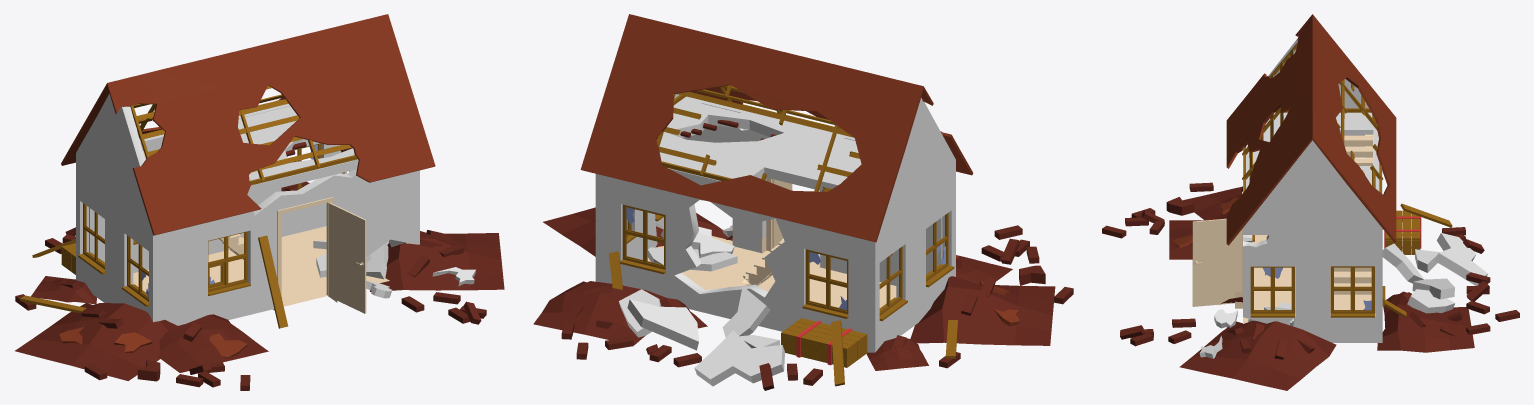
Rendered from house-broken.fbx.
3 views of the same model, side by side, from view 1: azimuth 30°, elevation 25°; view 2: azimuth 150°, elevation 25°; view 3: azimuth 270°, elevation 25° (orthographic). The views are drawn at different scales.
Parts seen in each view (by area): view 1: Roof, House, Debris, Floor.001, Door, Floor, Roof supports, Window, DoorFrame, Window.004, Window.005; view 2: Roof, House, Debris, Floor, Roof supports, Floor.001, Wood Stack, Window.007, Window.006, Window.004, Window.005, Stairs; view 3: Debris, Roof, House, Door, Floor, Floor.001, Roof supports, Stairs, Window.002, Window.003, Wood Stack.
Part boxes in pixels (x1,y1,x2,y2): Roof: (61, 14, 435, 235); House: (76, 93, 419, 325); Debris: (15, 139, 504, 390); Floor.001: (133, 226, 389, 306); Door: (328, 202, 366, 313); Floor: (76, 106, 357, 212); Roof supports: (130, 85, 357, 185); Window: (208, 231, 250, 295); DoorFrame: (277, 197, 333, 296); Window.004: (122, 235, 148, 306); Window.005: (78, 203, 104, 274); Roof: (580, 14, 973, 242); House: (595, 94, 955, 352); Debris: (533, 120, 1073, 390); Floor: (659, 96, 907, 223); Roof supports: (656, 85, 859, 191); Floor.001: (647, 236, 896, 307); Wood Stack: (781, 318, 867, 367); Window.007: (802, 249, 848, 318); Window.006: (620, 204, 665, 274); Window.004: (926, 212, 954, 287); Window.005: (879, 246, 907, 321); Stairs: (730, 239, 784, 286); Debris: (1102, 182, 1519, 390); Roof: (1226, 14, 1396, 245); House: (1243, 38, 1382, 342); Door: (1192, 218, 1241, 306); Floor: (1243, 112, 1382, 234); Floor.001: (1243, 235, 1371, 323); Roof supports: (1242, 42, 1383, 193); Stairs: (1334, 134, 1373, 294); Window.002: (1250, 266, 1294, 317); Window.003: (1330, 266, 1374, 317); Wood Stack: (1384, 210, 1421, 254).
Size of the model in its own units: 1089 by 523 by 898.
